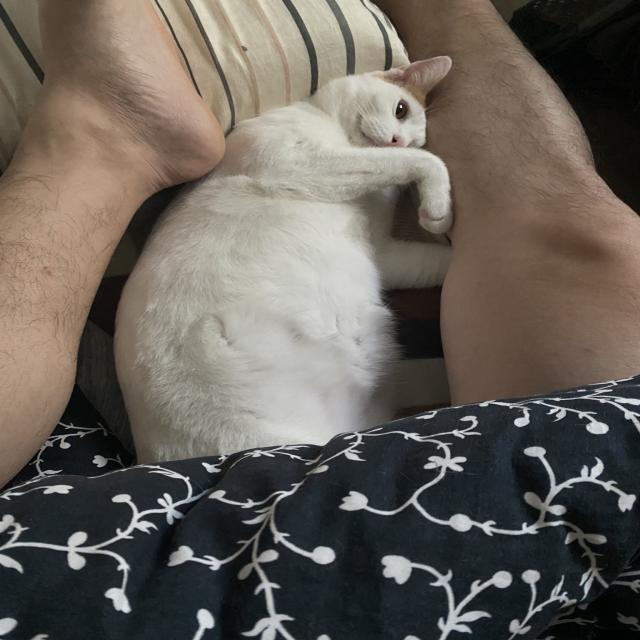cat1: (110, 51, 454, 458)
